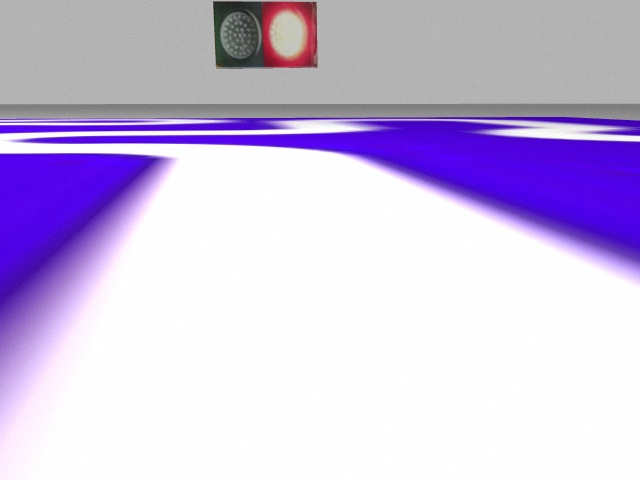red: (262, 2, 316, 66)
